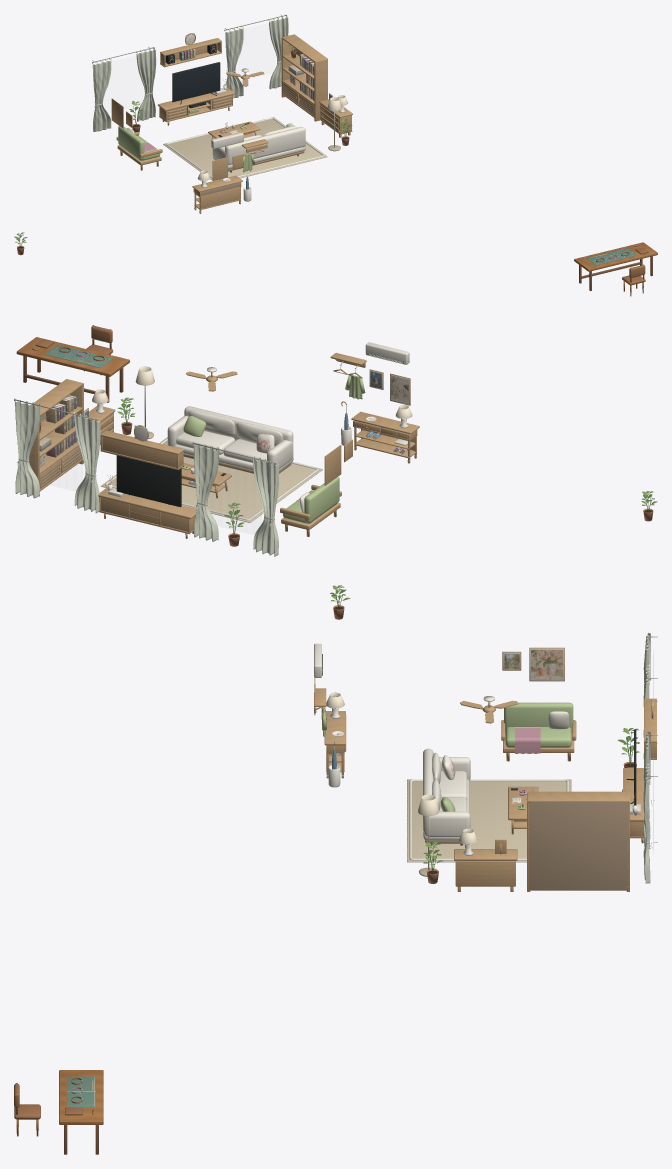
Rendered from furniture-v009.glb.
The picture shows the model from 3 angles, top to bottom: view 1: azimuth 30°, elevation 25°; view 2: azimuth 150°, elevation 25°; view 3: azimuth 270°, elevation 25°; orthographic projection. The views are drawn at different scales.
Parts seen in each view (by area): view 1: Rug / woven base, Sofa / curved back shell, TV / glass panel, Curtain / tailored continuous drape.001, Curtain / tailored continuous drape, Curtain / tailored continuous drape.002, Curtain / tailored continuous drape.003, Workshop / thick worktop, Bookcase / side stile, Side seat / back, TV / oak top, Entry / inset rear panel (+3 smaller); view 2: Rug / woven base, TV / screen frame, Curtain / tailored continuous drape.002, Curtain / tailored continuous drape, Curtain / tailored continuous drape.003, Curtain / tailored continuous drape.001, Workshop / thick worktop, TV / back panel, Media shelf / back, Side seat / back, TV / oak top, Sofa / separate seat cushion.001 (+21 smaller); view 3: Bookcase / back, Rug / woven base, Chest / carcass, Workshop / thick worktop, Side seat / back, Bookcase / shelf.004, Sofa / rounded arm.001, Side wall / large original picture original artwork, Workshop / self-healing cutting mat, Side seat / seat.
Boxes of the visible parts, x1,y1,x2,y2 form: Rug / woven base: (163, 117, 327, 180); Sofa / curved back shell: (225, 127, 305, 164); TV / glass panel: (173, 63, 219, 100); Curtain / tailored continuous drape.001: (136, 49, 156, 121); Curtain / tailored continuous drape: (92, 60, 111, 131); Curtain / tailored continuous drape.002: (225, 28, 243, 98); Curtain / tailored continuous drape.003: (269, 17, 288, 89); Workshop / thick worktop: (574, 242, 657, 271); Bookcase / side stile: (314, 59, 327, 121); Side seat / back: (118, 126, 144, 160); TV / oak top: (158, 87, 234, 111); Entry / inset rear panel: (200, 187, 240, 208); Rug / woven base: (101, 437, 322, 522); TV / screen frame: (116, 455, 181, 507); Curtain / tailored continuous drape.002: (74, 415, 100, 513); Curtain / tailored continuous drape: (252, 458, 278, 556); Curtain / tailored continuous drape.003: (15, 401, 40, 498); Curtain / tailored continuous drape.001: (193, 445, 218, 541); Workshop / thick worktop: (16, 337, 129, 376); TV / back panel: (101, 497, 190, 532); Media shelf / back: (102, 437, 176, 467); Side seat / back: (304, 477, 339, 522); TV / oak top: (98, 487, 196, 519); Sofa / separate seat cushion.001: (176, 431, 235, 454); Bookcase / back: (529, 802, 627, 890); Rug / woven base: (407, 779, 571, 862); Chest / carcass: (455, 861, 515, 886); Workshop / thick worktop: (59, 1070, 103, 1124); Side seat / back: (504, 702, 573, 732); Bookcase / shelf.004: (528, 791, 629, 802); Sofa / rounded arm.001: (424, 811, 470, 836); Side wall / large original picture original artwork: (531, 650, 563, 679); Workshop / self-healing cutting mat: (67, 1076, 95, 1107); Side seat / seat: (505, 727, 571, 747).
Size of the model in its own units: 20.6 by 6.04 by 13.7.
39 materials, 8 textured.
